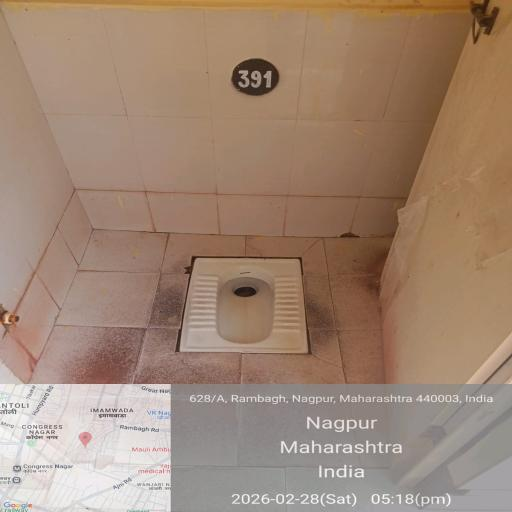clean_floor: (32, 20, 407, 189), (404, 91, 512, 373)
partial_dirty_floor: (0, 190, 397, 386)
partial_dirty_indian: (187, 260, 312, 352)
